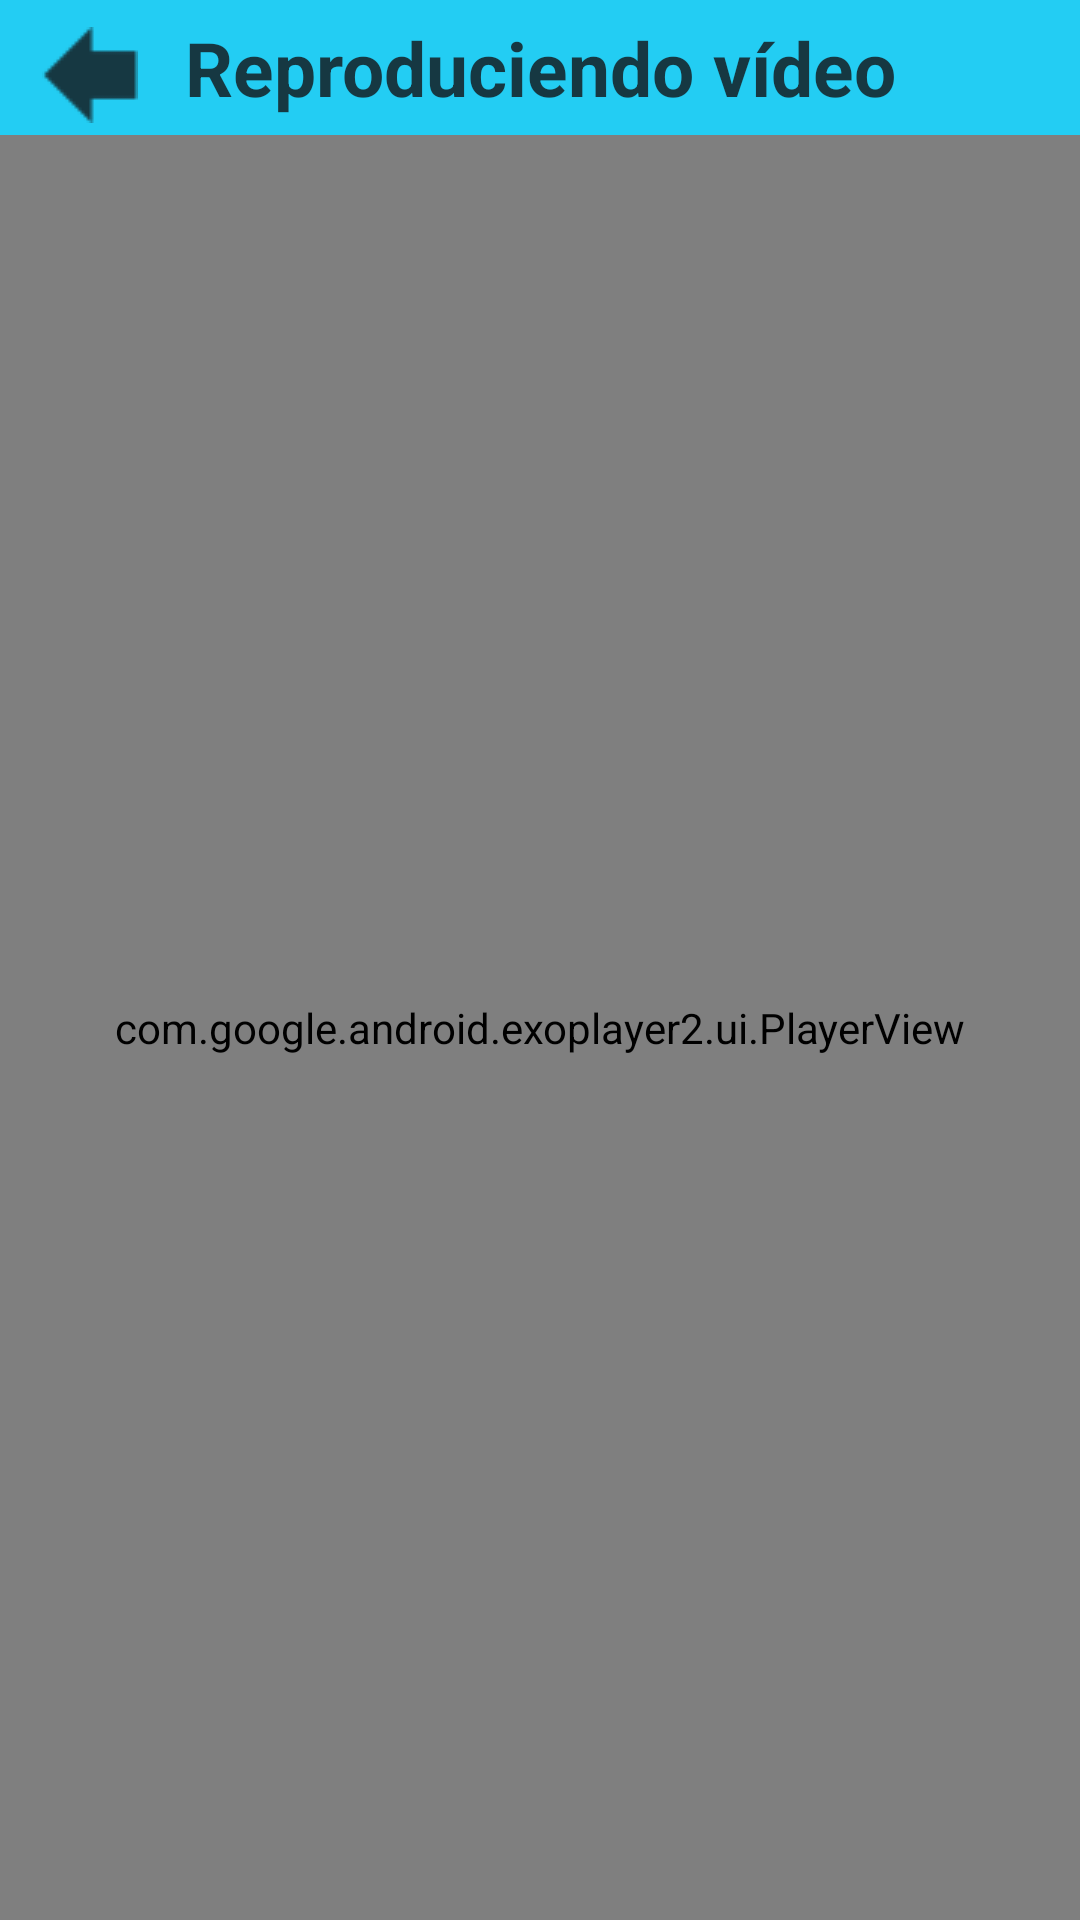

Screen size 1080px x 1920px. Icon name, then its center in pixels as (x=x, y=y):
volver: (x=90, y=75)
